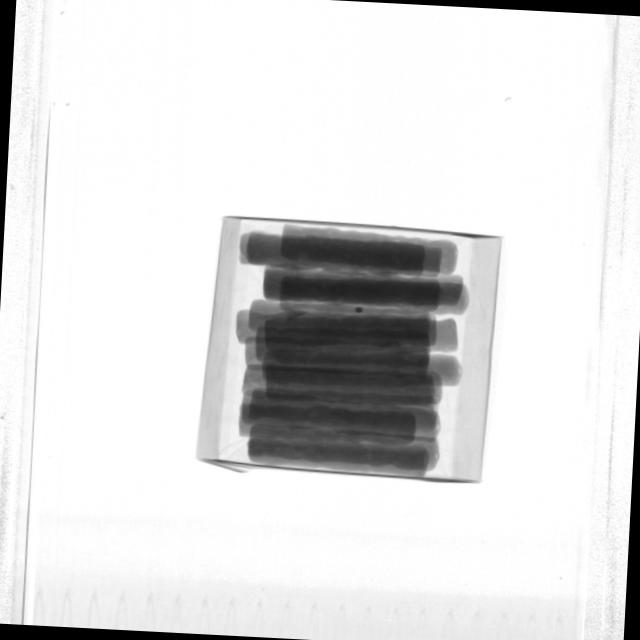ym: (286, 310, 309, 323), (355, 307, 363, 315)
